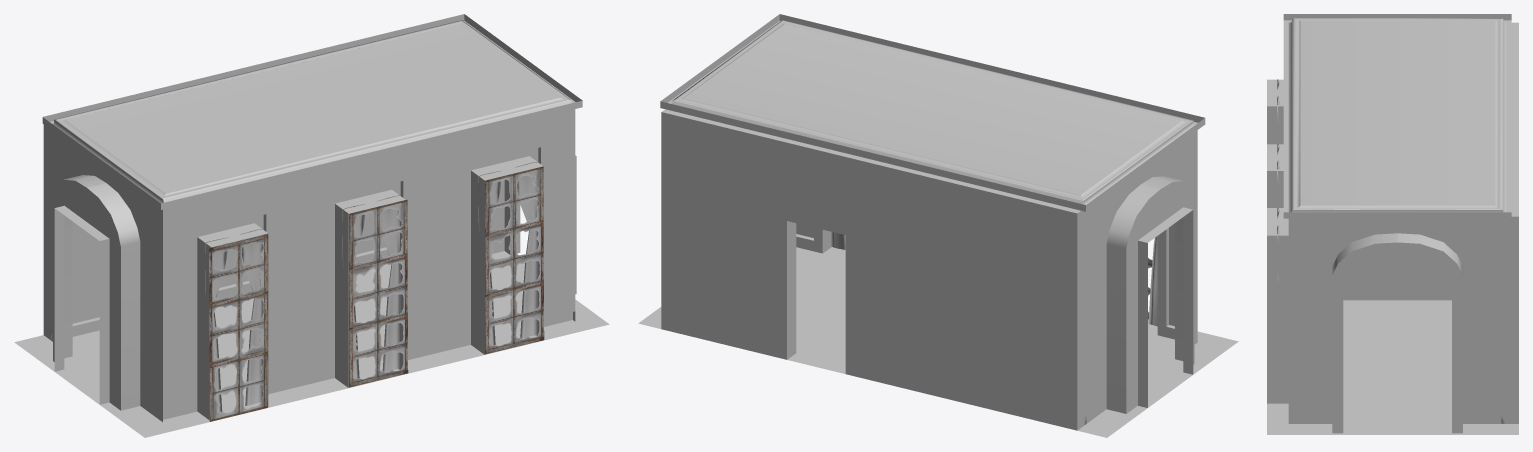
Rendered from Hallway.fbx.
3 renders of one model, left to right at view 1: azimuth 30°, elevation 25°; view 2: azimuth 150°, elevation 25°; view 3: azimuth 270°, elevation 25°, orthographic. The views are drawn at different scales.
Parts seen in each view (by area): view 1: pCube5, roof:molding_ceiling, pCube8, pPlane1, pPlane3, pPlane4, pPlane2, wall02, polySurface17, polySurface15, polySurface20, pCube9 (+1 smaller); view 2: wall02, roof:molding_ceiling, pCube8, pPlane1, pCube5, polySurface19; view 3: roof:molding_ceiling, pCube9, pPlane1, pCube5, wall02.
Part boxes in pixels (x1,y1,x2,y2): pCube5: [160, 109, 575, 421]; roof:molding_ceiling: [42, 14, 582, 209]; pCube8: [50, 129, 162, 421]; pPlane1: [14, 251, 609, 437]; pPlane3: [348, 199, 408, 387]; pPlane4: [209, 234, 268, 421]; pPlane2: [485, 166, 544, 354]; wall02: [43, 121, 389, 339]; polySurface17: [377, 195, 400, 371]; polySurface15: [515, 161, 537, 338]; polySurface20: [240, 229, 263, 405]; pCube9: [490, 155, 576, 321]; wall02: [661, 109, 1086, 430]; roof:molding_ceiling: [660, 14, 1205, 211]; pCube8: [1084, 130, 1197, 425]; pPlane1: [638, 247, 1238, 437]; pCube5: [796, 223, 1197, 344]; polySurface19: [1148, 236, 1157, 326]; roof:molding_ceiling: [1283, 14, 1511, 218]; pCube9: [1288, 218, 1506, 433]; pPlane1: [1267, 305, 1518, 434]; pCube5: [1267, 79, 1293, 423]; wall02: [1501, 22, 1518, 423].
Bounding box in the file's own units: 24.1 × 10.85 × 11.58.
